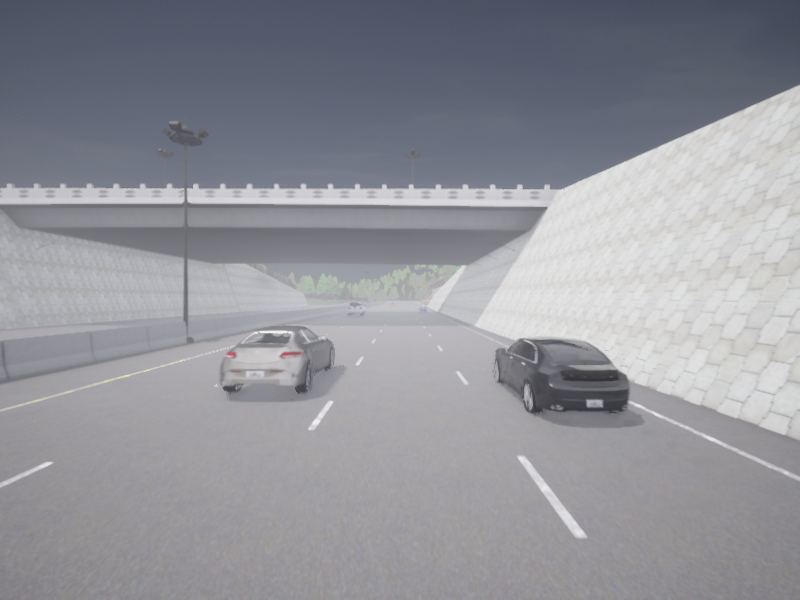vehicle: (493, 336, 629, 413), (220, 326, 333, 393), (348, 302, 365, 315), (419, 305, 426, 312), (390, 302, 395, 305)
